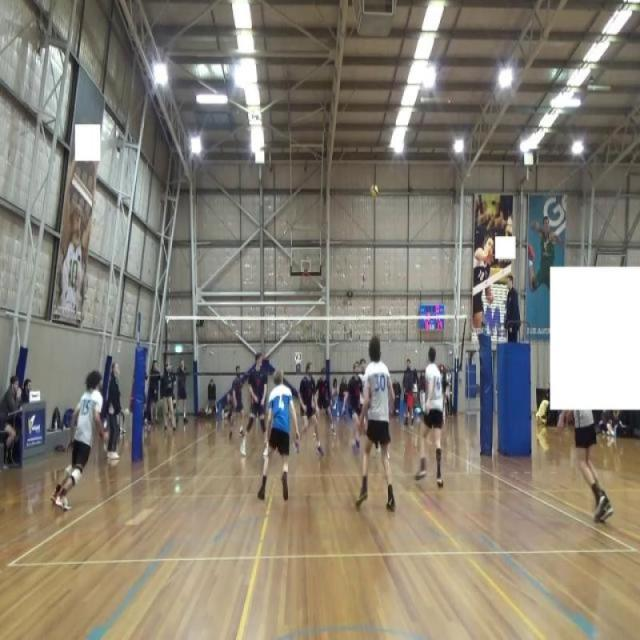volleyball: (369, 182, 380, 199)
